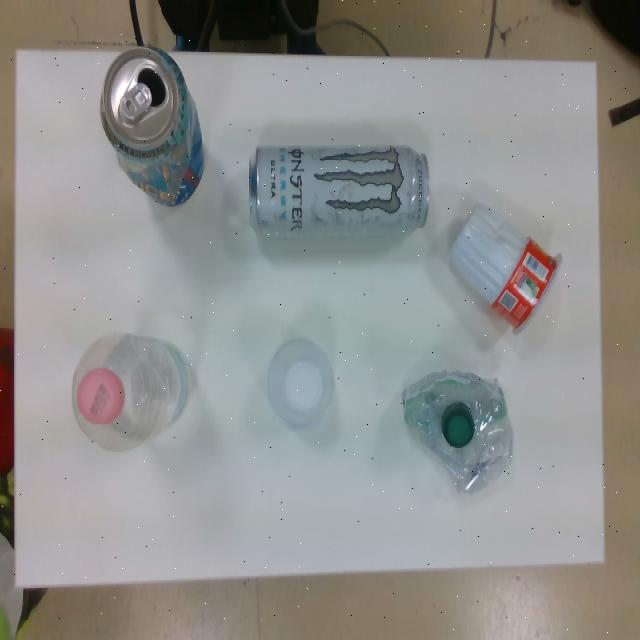aluminum: (96, 42, 207, 212), (249, 140, 432, 238)
plastic: (450, 193, 563, 339), (400, 364, 518, 495), (70, 334, 188, 454), (266, 335, 336, 429)
